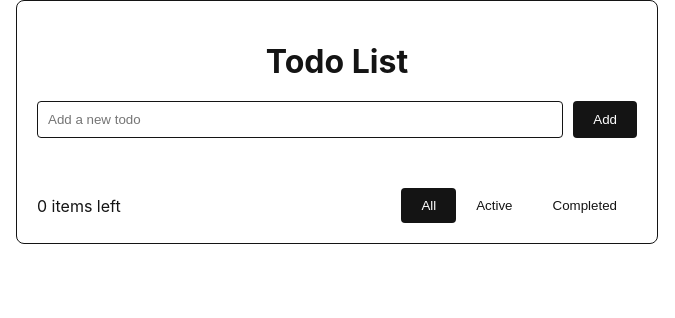
Test: TodoContext › adds a todo
Type "Test" into the field with placeholder "Add a new todo" at (300, 120), box [37, 101, 563, 138]
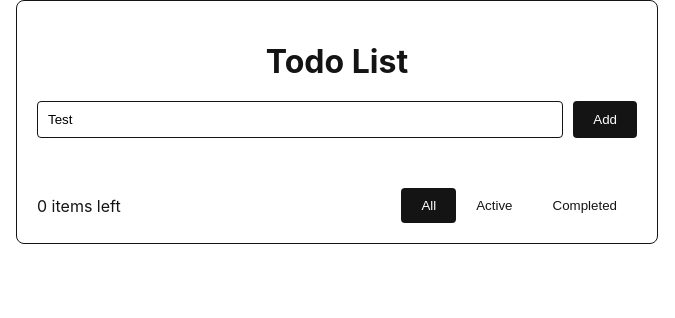
Click the button "Add" at (605, 120), box [573, 101, 637, 138]
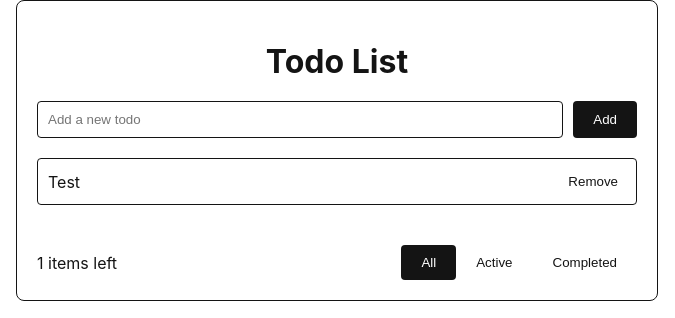
Expected: the text "Test" is shown, [48, 172, 80, 192]
